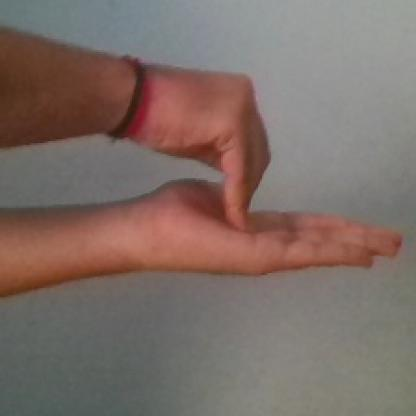Z: (140, 47, 402, 302)
